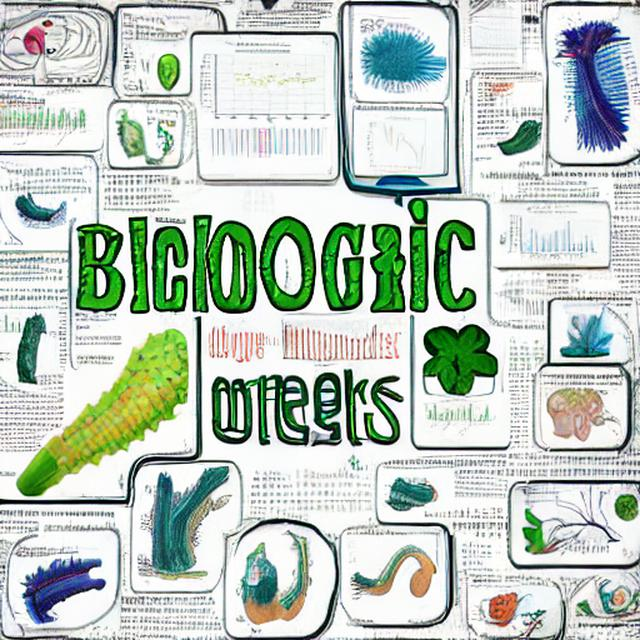Graph: (197, 49, 328, 126), (274, 312, 368, 368), (355, 113, 441, 172), (508, 210, 595, 262), (423, 396, 492, 437), (462, 18, 519, 53)
